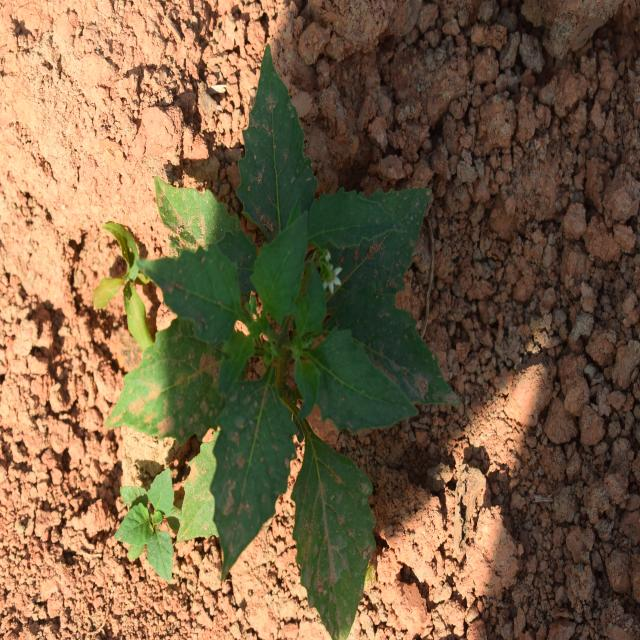Black_nightshade: (132, 102, 423, 578)
